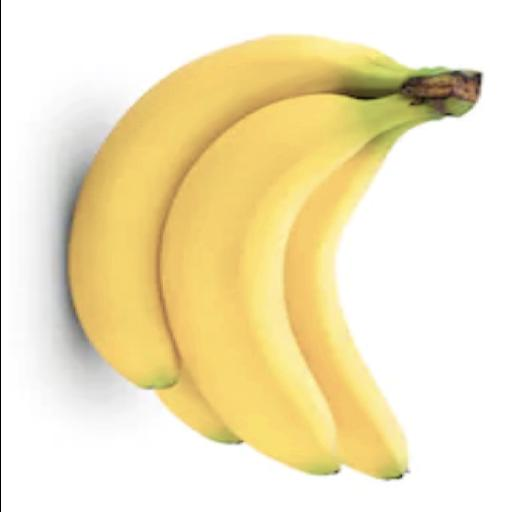banana: (68, 34, 411, 387), (159, 94, 439, 473), (284, 121, 423, 478), (156, 368, 240, 443)
